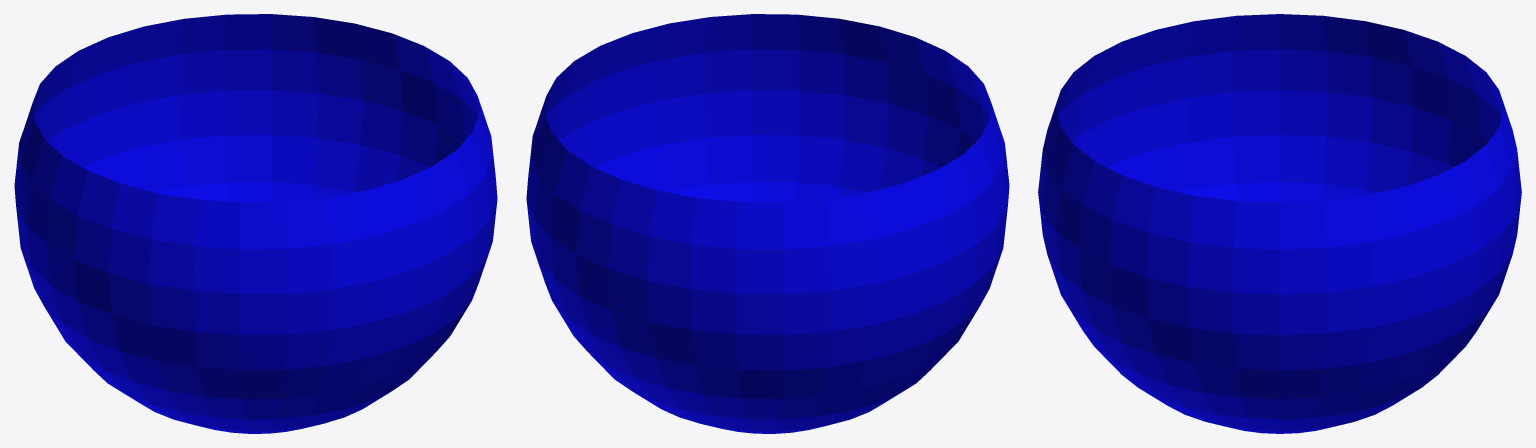
Rendered from bl_sphere_bag_basic_002.obj.
3 renders of one model, left to right at view 1: azimuth 30°, elevation 25°; view 2: azimuth 150°, elevation 25°; view 3: azimuth 270°, elevation 25°, orthographic.
Visible parts, largest first — view 1: Sphere.002; view 2: Sphere.002; view 3: Sphere.002.
Boxes of the visible parts, x1=… form: Sphere.002: x1=14, y1=14, x2=497, y2=433; Sphere.002: x1=526, y1=14, x2=1009, y2=433; Sphere.002: x1=1038, y1=14, x2=1521, y2=433.
Size of the model in its own units: 1.6 by 1.11 by 1.6.
